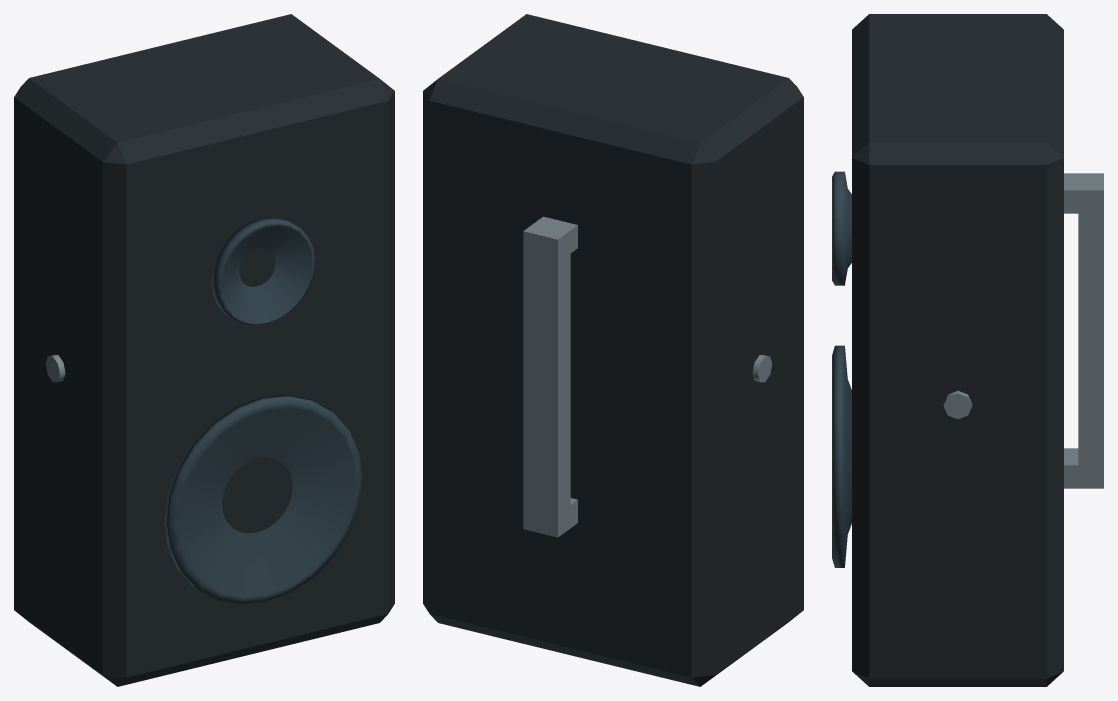
Rendered from campus-music-speaker.glb.
The picture shows the model from 3 angles, left to right: view 1: azimuth 30°, elevation 25°; view 2: azimuth 150°, elevation 25°; view 3: azimuth 270°, elevation 25°; orthographic projection.
Parts seen in each view (by area): view 1: continuous loudspeaker enclosure, merged-recessed driver 0; view 2: continuous loudspeaker enclosure, merged-continuous u wall bracket; view 3: continuous loudspeaker enclosure, merged-continuous u wall bracket, merged-recessed driver 0.
Part boxes in pixels (bbox=[...]): continuous loudspeaker enclosure: bbox=[14, 14, 394, 686]; merged-recessed driver 0: bbox=[164, 217, 362, 605]; continuous loudspeaker enclosure: bbox=[423, 14, 803, 686]; merged-continuous u wall bracket: bbox=[523, 216, 772, 537]; continuous loudspeaker enclosure: bbox=[852, 14, 1063, 686]; merged-continuous u wall bracket: bbox=[943, 173, 1103, 488]; merged-recessed driver 0: bbox=[832, 171, 851, 567].
Size of the model in its own units: 1.23 by 2.1 by 0.95.
